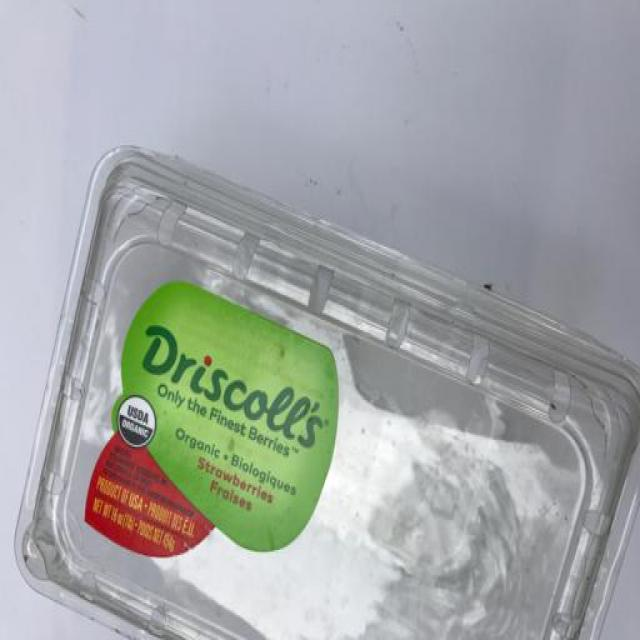Recycle: (11, 143, 640, 640)
